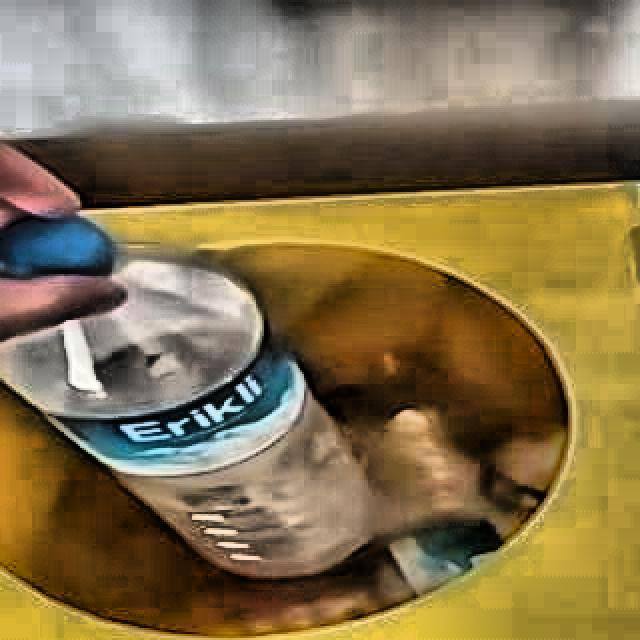plastic: (0, 213, 370, 579)
